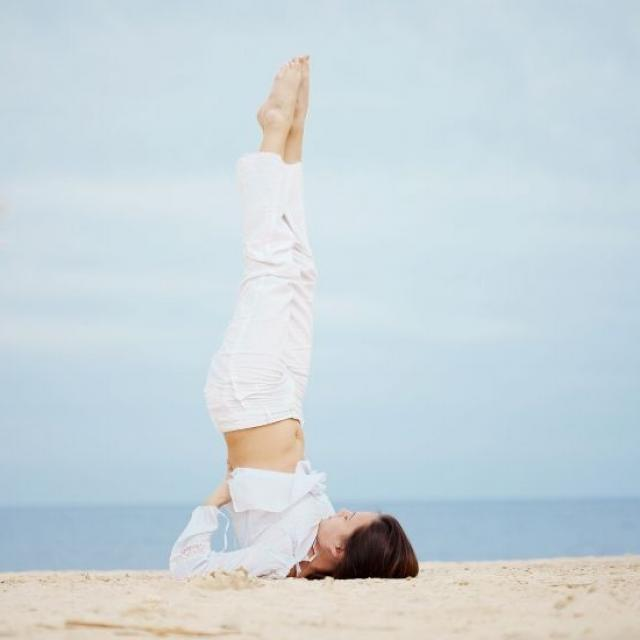yoga-pose shoulderstand: (160, 43, 404, 574)
